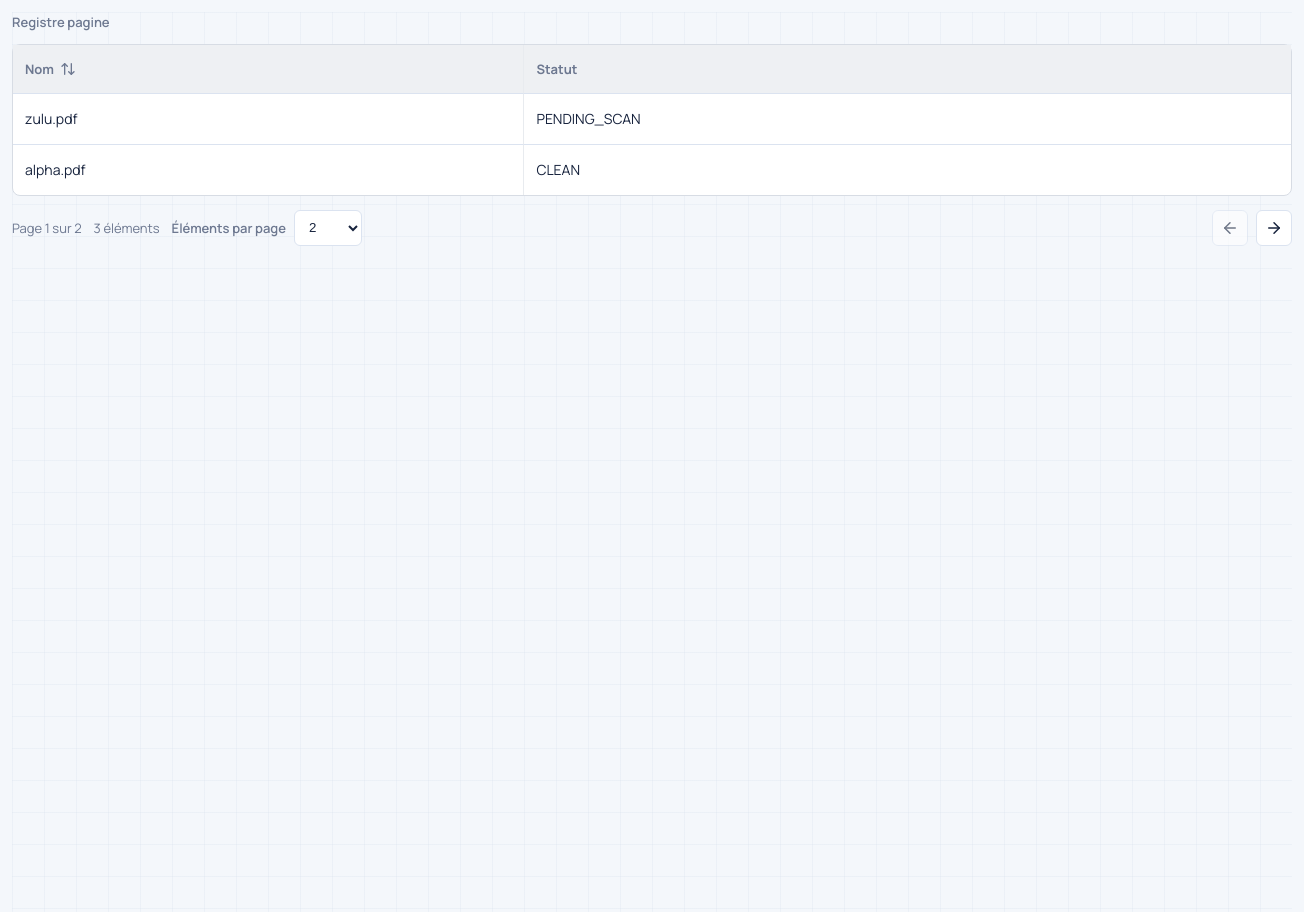
it: GenericTable › paginates sorted rows and exposes page and element counts
The width and height of the screenshot is (1304, 912).
Expected: the text "zulu.pdf" is shown, top-left (13, 94), bottom-right (524, 145)
Expected: the text "alpha.pdf" is shown, top-left (13, 145), bottom-right (524, 195)
Click the button named "Page suivante": (1274, 228) top-left (1256, 210), bottom-right (1292, 246)
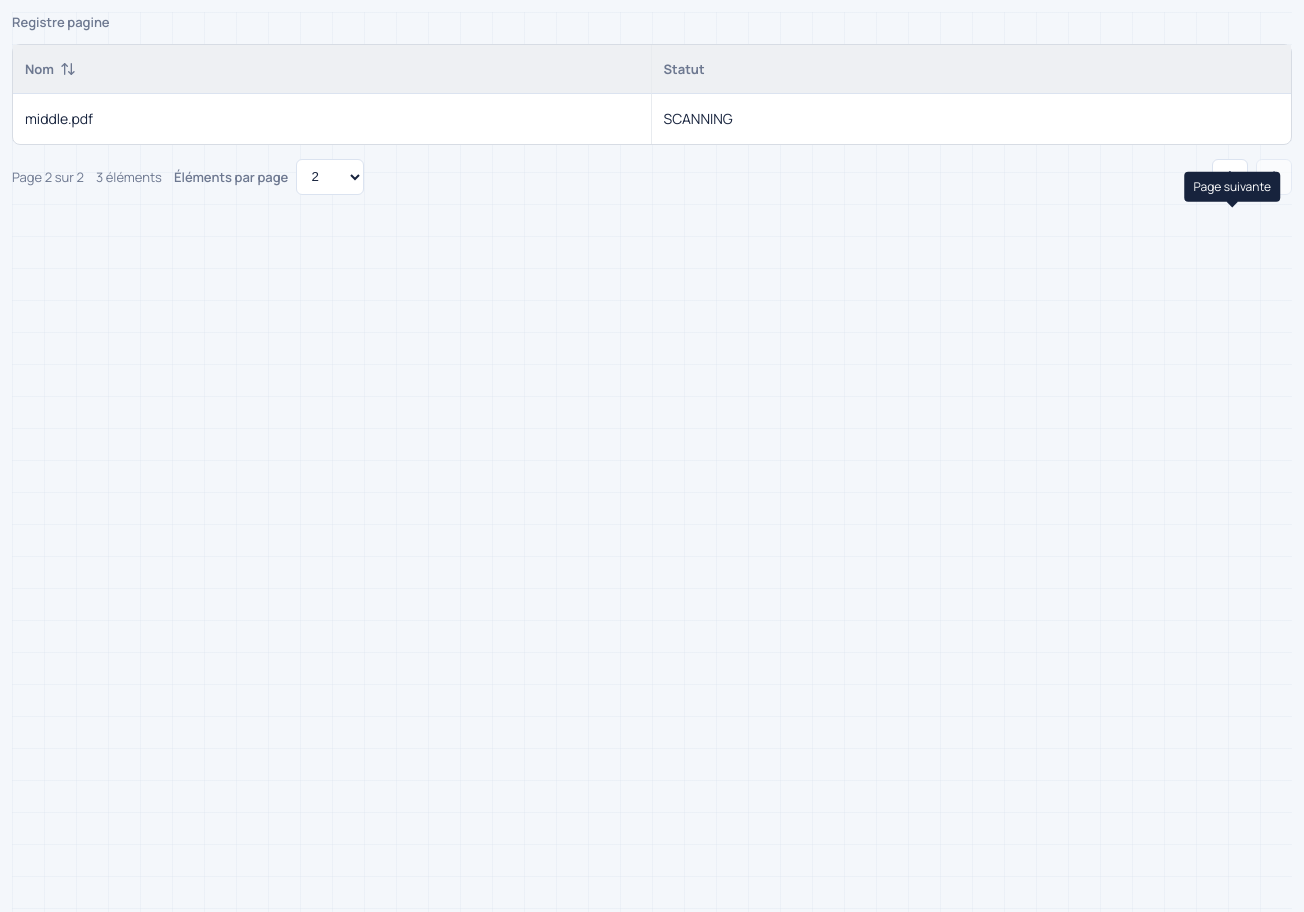
Result: the text "Page 2 sur 2" is shown at top-left (12, 167), bottom-right (84, 187)
Result: the text "middle.pdf" is shown at top-left (13, 94), bottom-right (652, 144)
Result: the text "zulu.pdf" is gone
Click the button with aria-label "Trier par Nom": (51, 69) top-left (25, 59), bottom-right (76, 79)
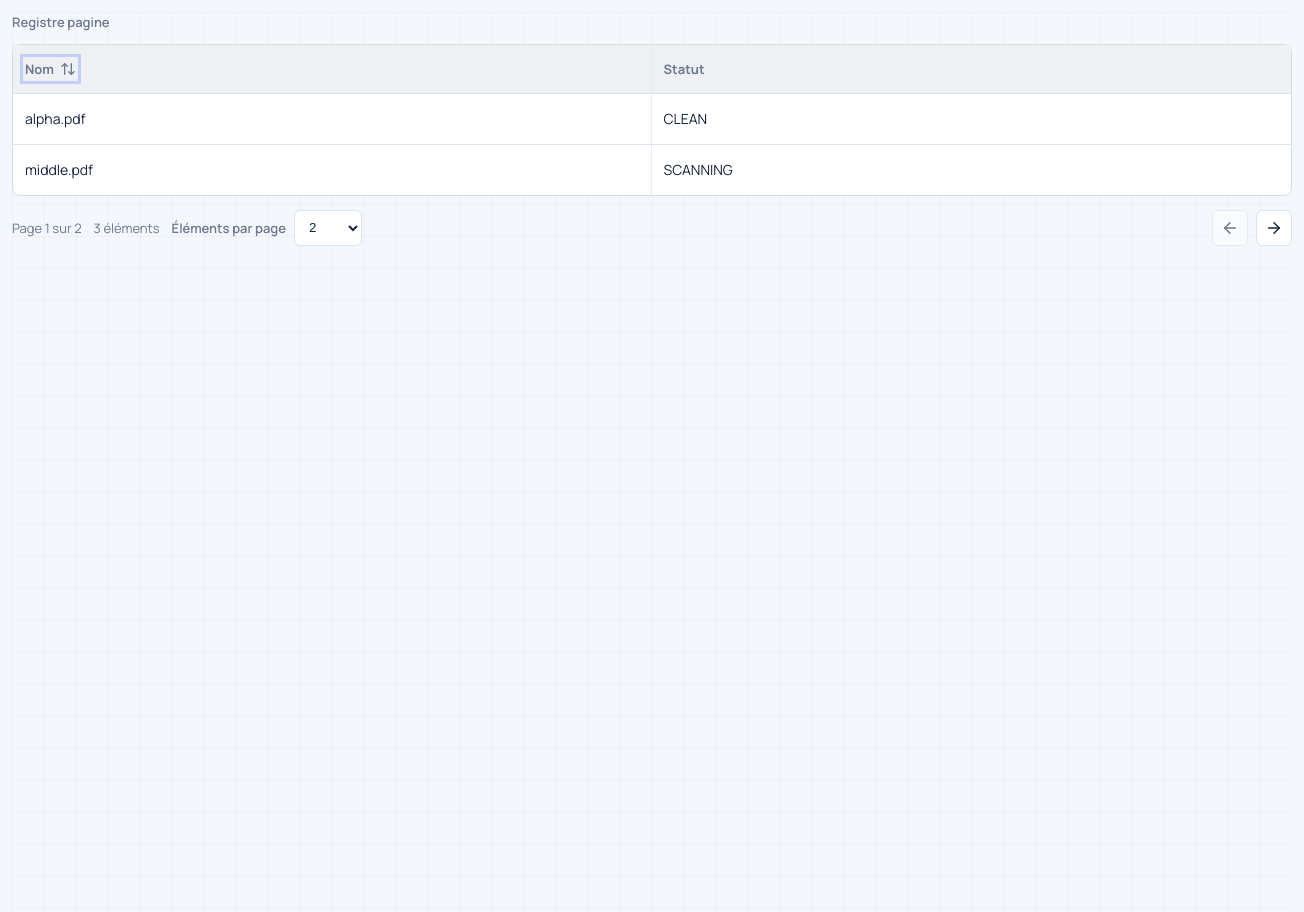
Result: the text "Page 1 sur 2" is shown at top-left (12, 218), bottom-right (82, 238)
Result: the text "alpha.pdf" is shown at top-left (13, 94), bottom-right (652, 145)
Select "3" in the dropdown labelled "Éléments par page": (328, 228) top-left (294, 210), bottom-right (362, 246)
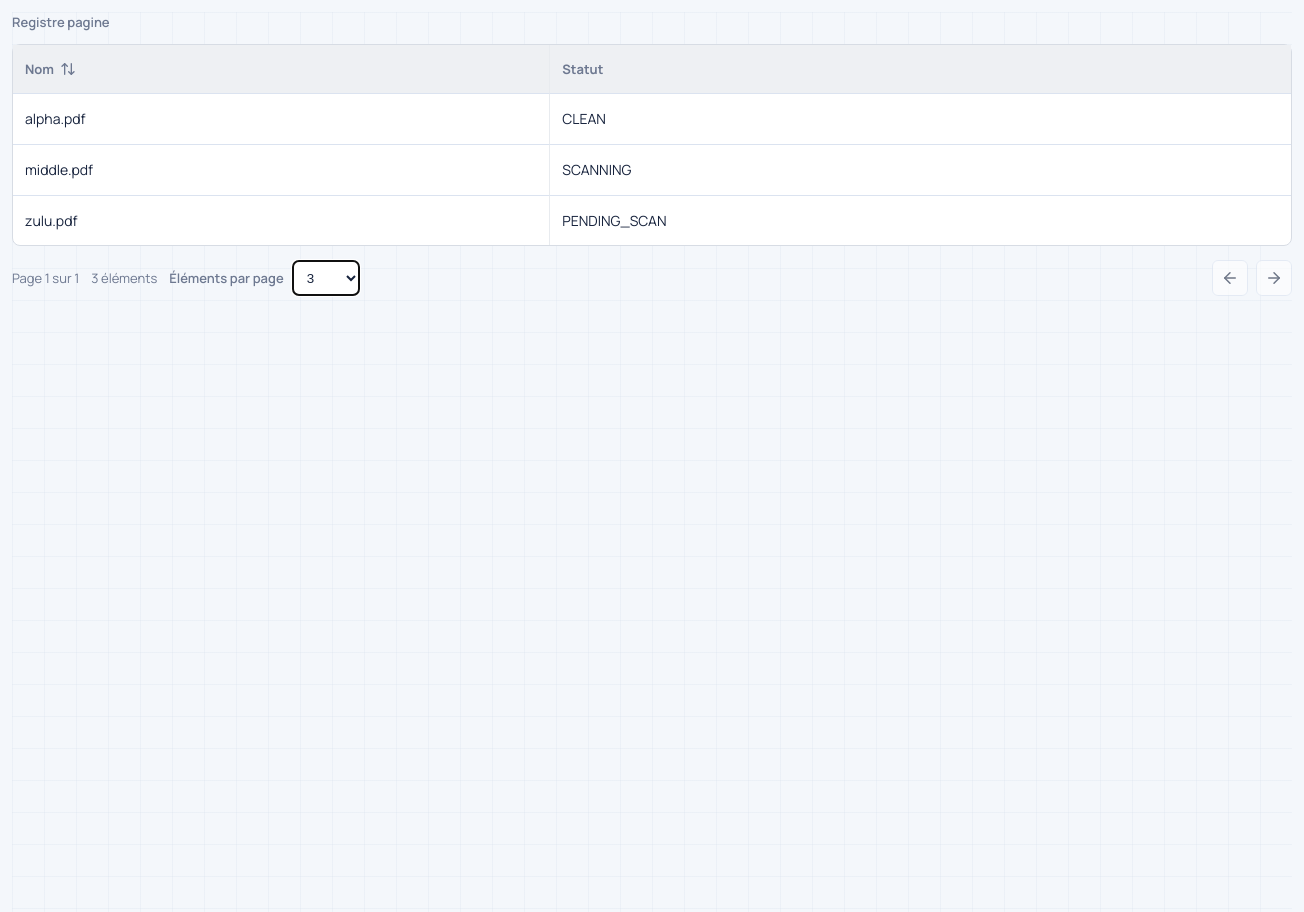
Result: the text "middle.pdf" is shown at top-left (13, 145), bottom-right (550, 196)
Result: the text "Page 1 sur 1" is shown at top-left (12, 268), bottom-right (79, 288)
